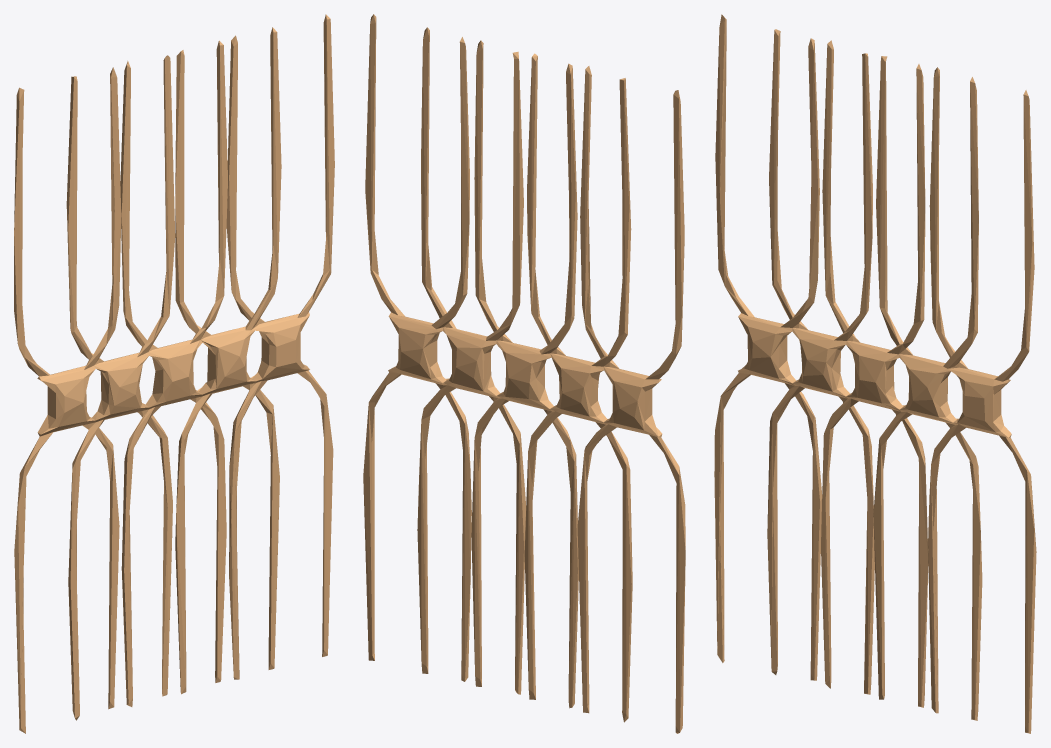
The model's file is chaetoceros.fbx.
3 views of the same model, side by side, from view 1: azimuth 30°, elevation 25°; view 2: azimuth 150°, elevation 25°; view 3: azimuth 330°, elevation 25° (orthographic).
Visible parts, largest first — view 1: Chaetoceros; view 2: Chaetoceros; view 3: Chaetoceros.
Boxes of the visible parts, x1=… form: Chaetoceros: x1=14, y1=14, x2=334, y2=733; Chaetoceros: x1=363, y1=14, x2=685, y2=733; Chaetoceros: x1=714, y1=14, x2=1036, y2=733.
Size of the model in its own units: 25076 by 48417 by 1849.
